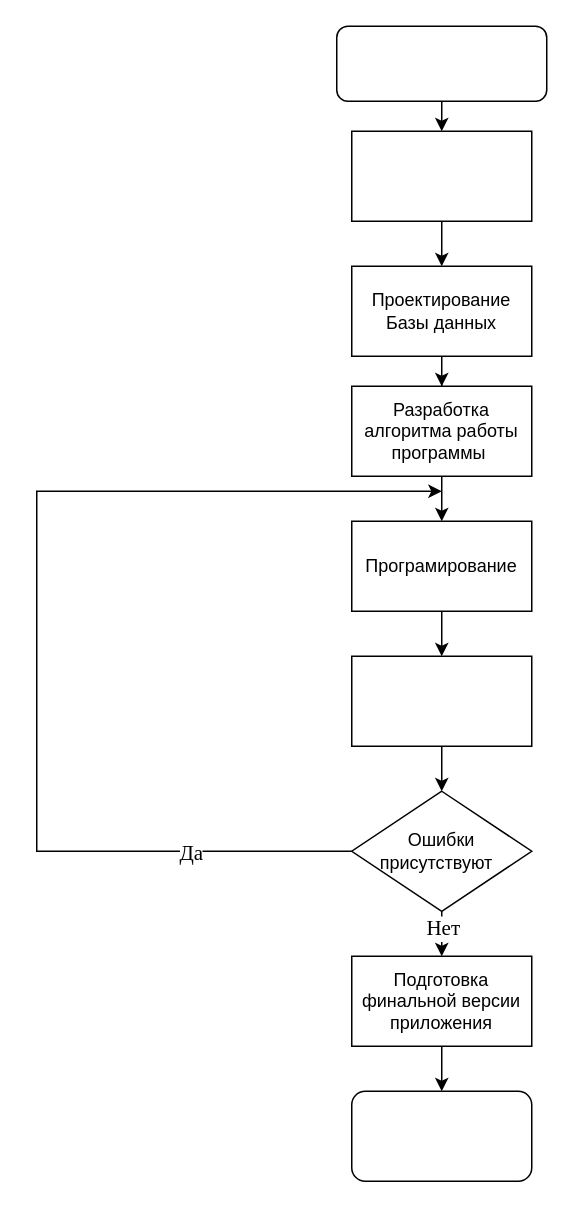
The diagram is 573 pixels wide and 1208 high, and some of its shapes have lost their labels. The shapes that lost their labels are listed below. From the top down, each one's centre as x and y in pixels, then its label:
At (x=441, y=175): "Анализ заданий и требований".
At (x=441, y=700): "Тестирование Программы".
